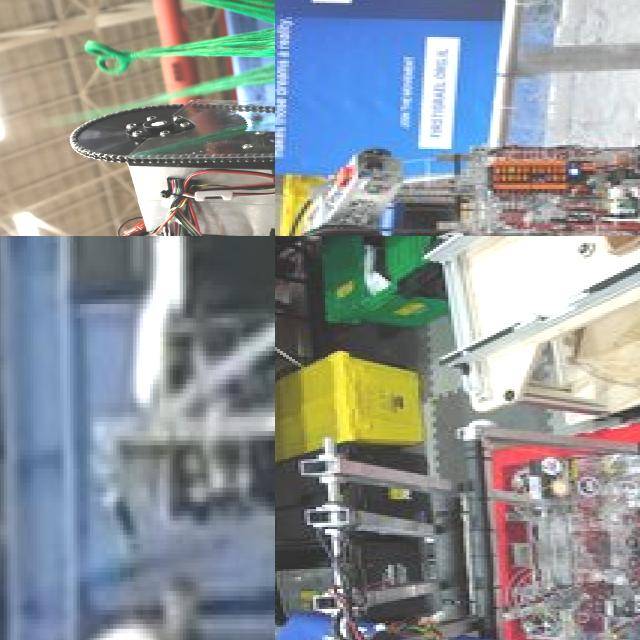FRC-Robots: (55, 236, 275, 631), (342, 354, 640, 640), (275, 8, 640, 236), (0, 118, 275, 236)
